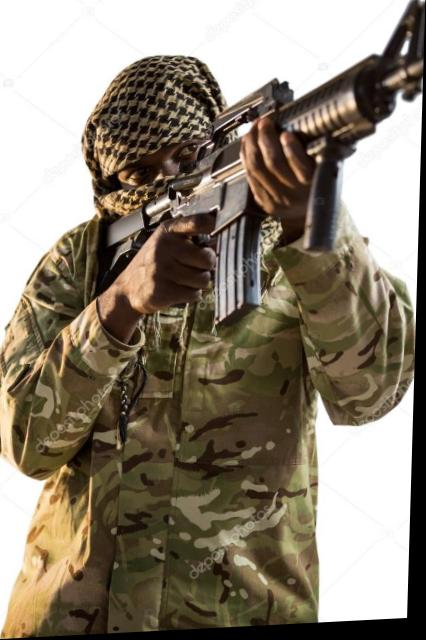other: (0, 45, 380, 639)
